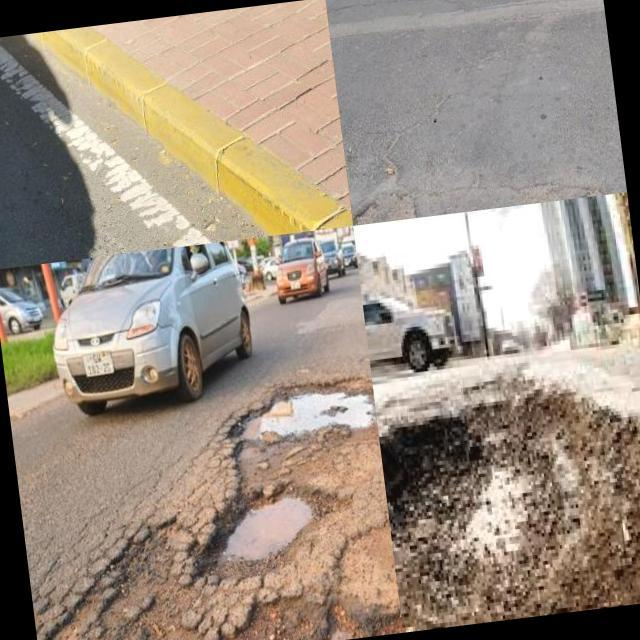Pothole: (379, 391, 640, 632), (195, 487, 346, 578), (228, 377, 379, 440)
